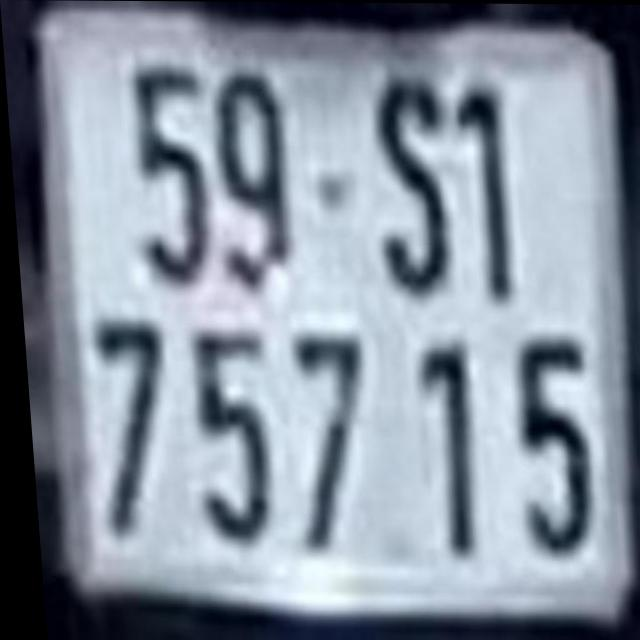1: (405, 322, 473, 550), (453, 72, 514, 295)
5: (185, 323, 274, 537), (511, 332, 592, 564), (126, 58, 208, 273)
7: (77, 315, 176, 539), (282, 326, 372, 566)
9: (208, 64, 289, 293)
S: (369, 76, 452, 298)
